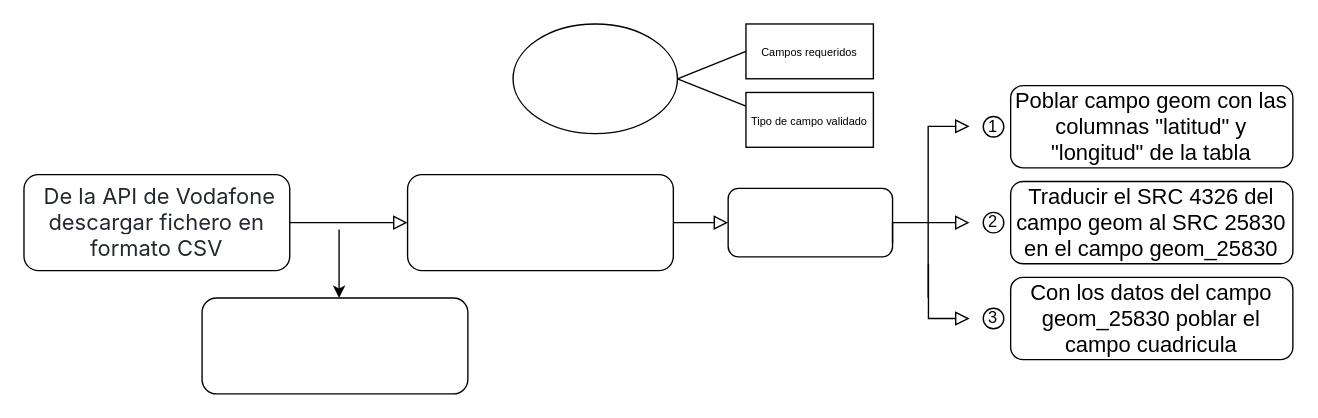
Some shapes in this 1318 by 418 pixel diagram are drawn without their labels. Here are the shapes that lost their labels. From the top down, the centre of each, then its label:
At point (594, 78): "PARTIMOS DE: Tabla ya creada".
At point (539, 222): "Borramos el contenido de la tabla (mes anterior)".
At point (810, 222): "Cargar el fichero CSV a la tabla".
At point (334, 345): "Borramos los encabezados del CSV (según proceda)".
